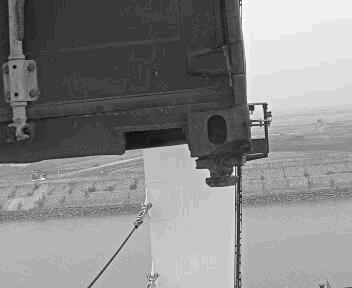twist_lock_1: (150, 149, 209, 197)
